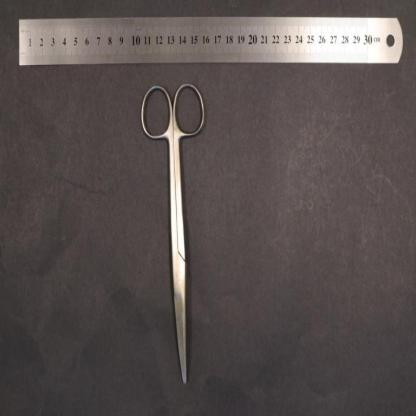Curved Mayo Scissors: (139, 80, 205, 384)
